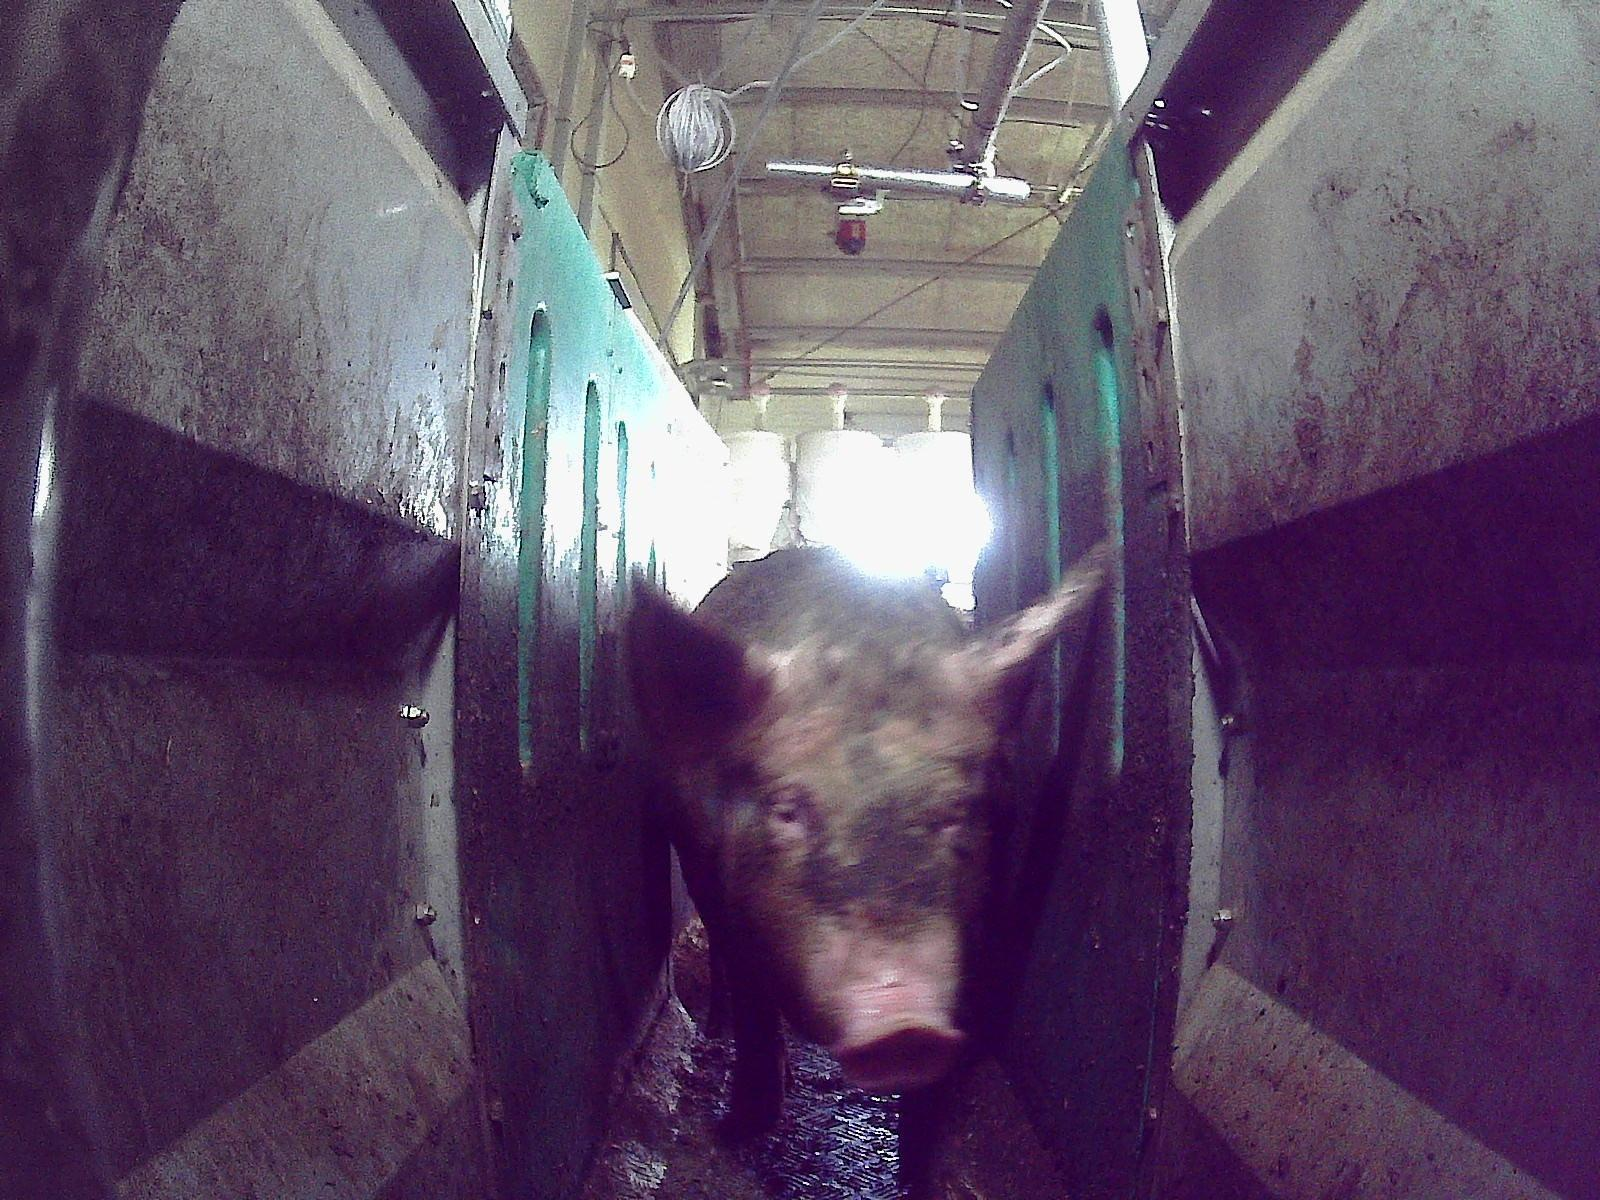Face: (706, 672, 983, 1087)
